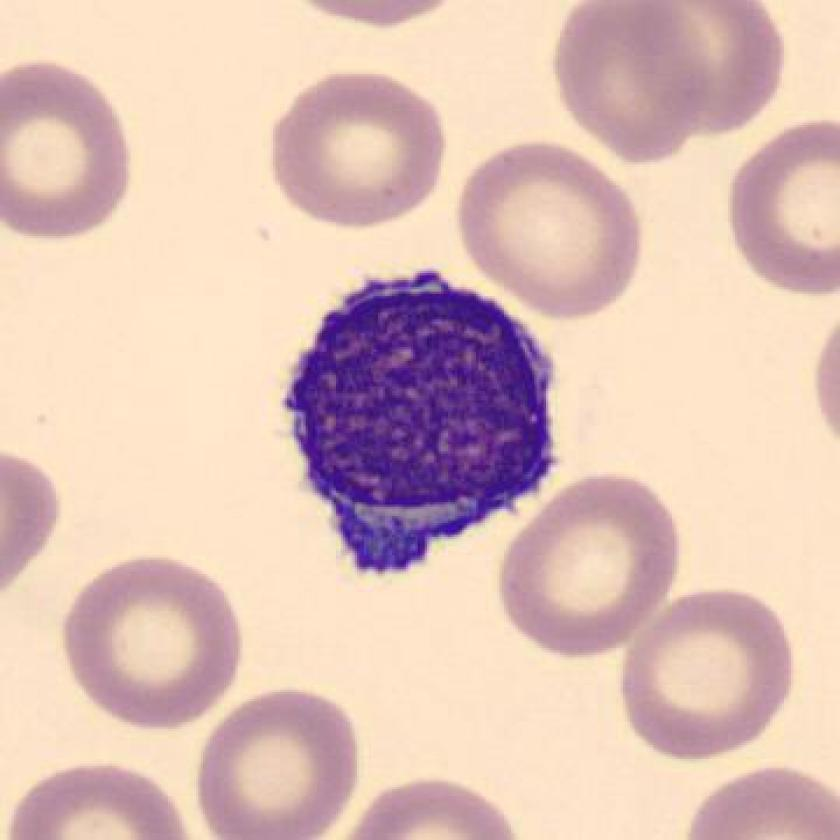lymphocyte: (267, 258, 570, 589)
